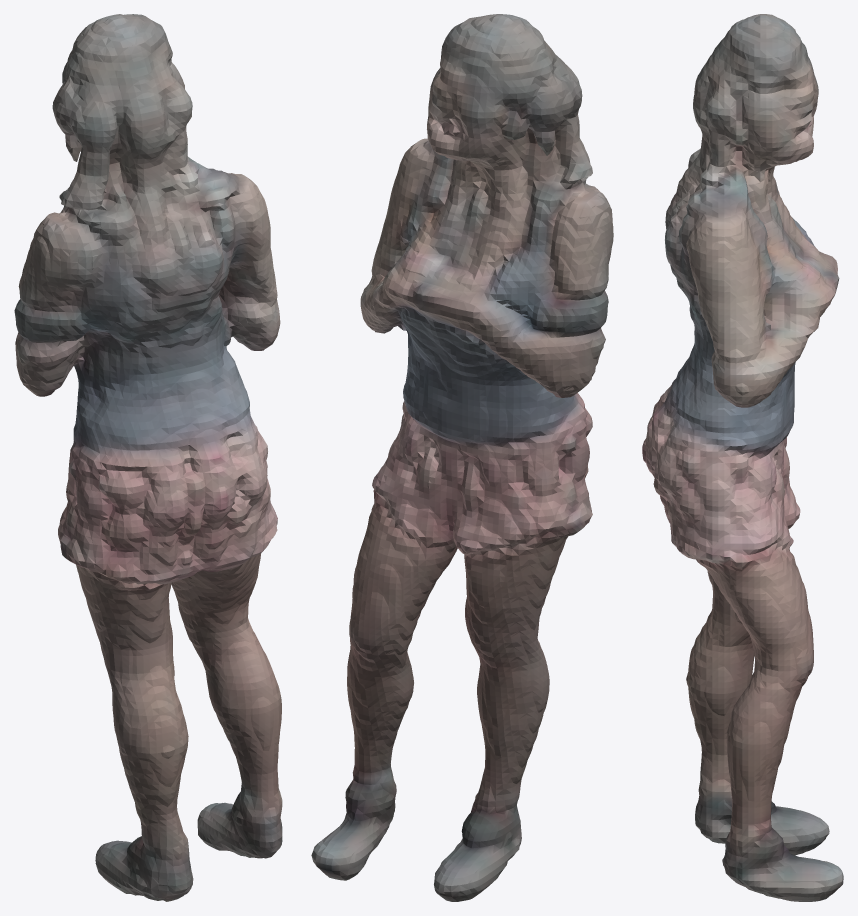
File: tmppkxt36k9.glb
The picture shows the model from 3 angles, left to right: view 1: azimuth 30°, elevation 25°; view 2: azimuth 150°, elevation 25°; view 3: azimuth 270°, elevation 25°; orthographic projection. The views are drawn at different scales.
Parts seen in each view (by area): view 1: world; view 2: world; view 3: world.
Part boxes in pixels (x1=…): world: x1=14, y1=14, x2=282, y2=901; world: x1=311, y1=14, x2=613, y2=901; world: x1=642, y1=14, x2=843, y2=901.
Bounding box in the file's own units: 0.3183 × 1.03 × 0.2289.
